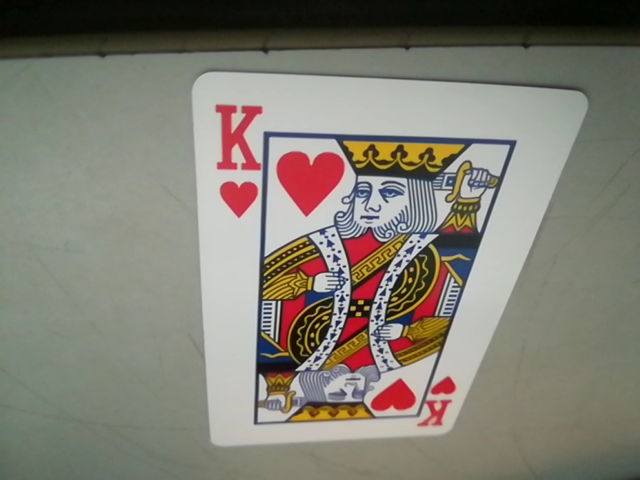hx k: (213, 101, 261, 219), (418, 375, 457, 431)
